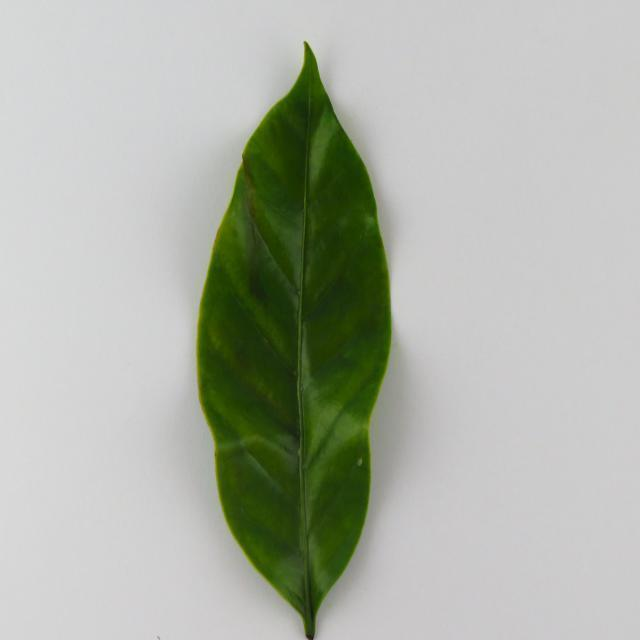DeficienciaNutricional-Magnesio: (198, 43, 391, 638)
